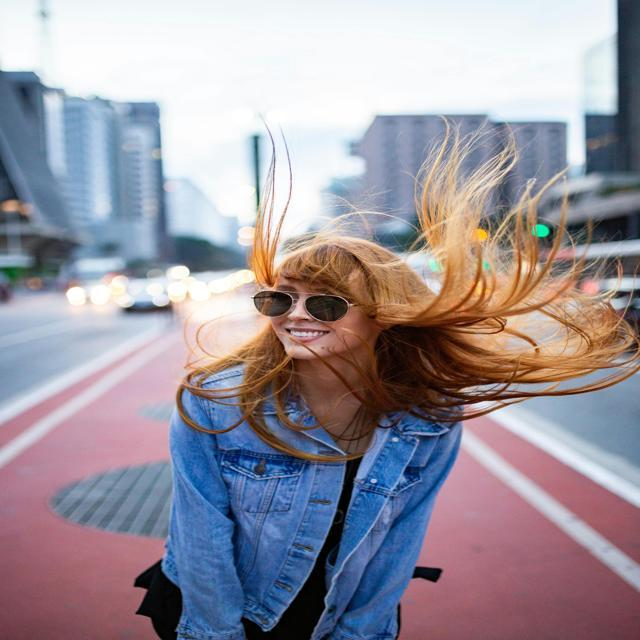2_gafas: (251, 289, 359, 322)
